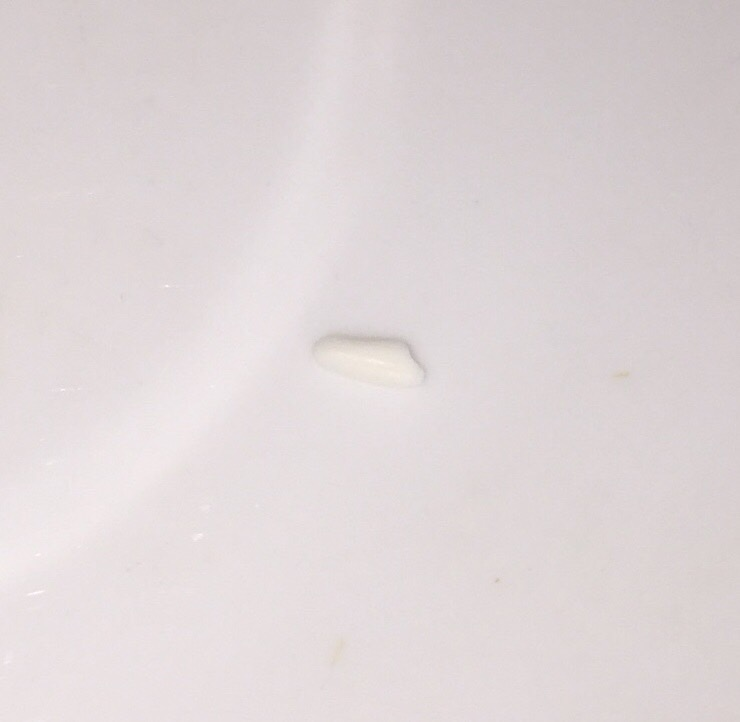Gao Nep Sap: (308, 322, 440, 398)
